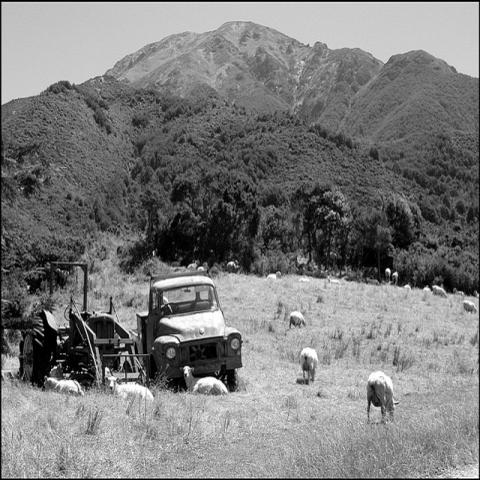truck: (128, 271, 243, 395)
